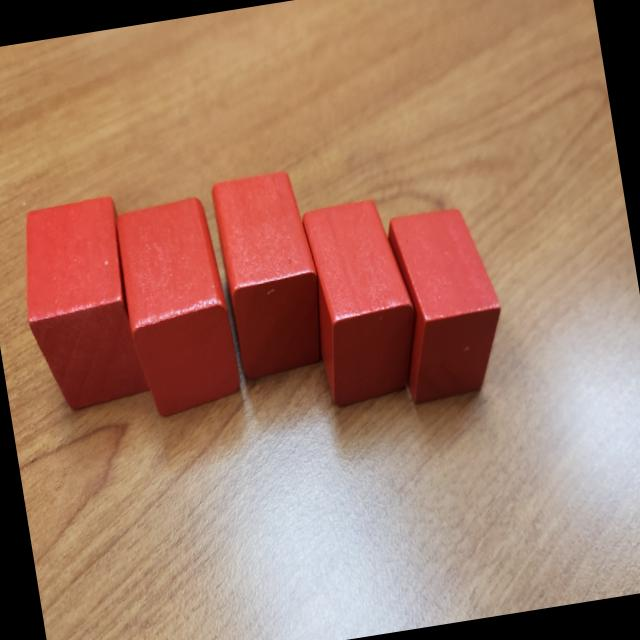red: (10, 195, 153, 416), (110, 195, 246, 422), (298, 194, 429, 408), (380, 202, 514, 406), (210, 167, 334, 383)
